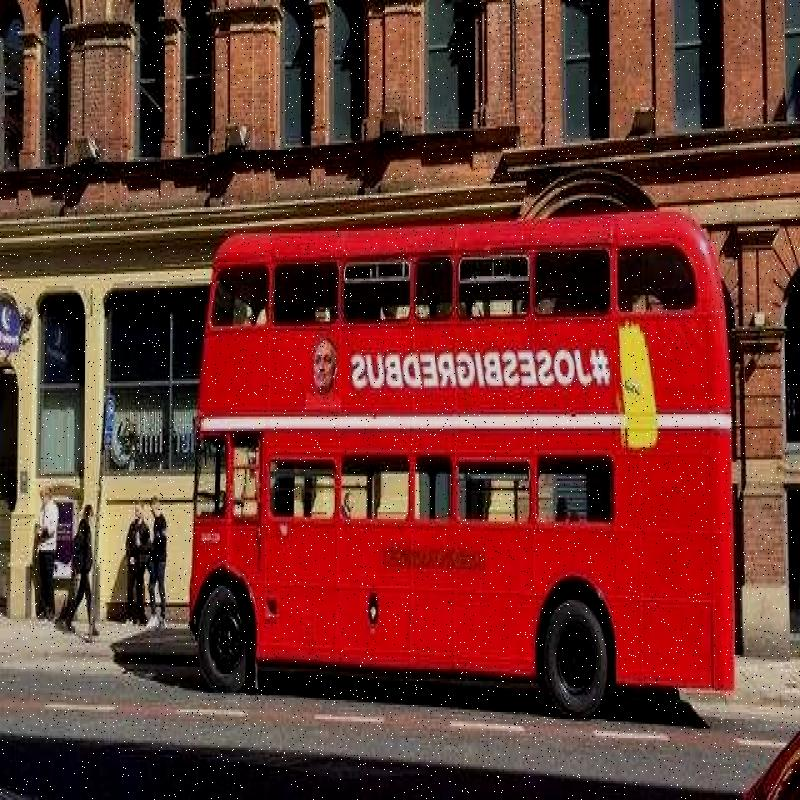bus: (176, 167, 736, 721)
